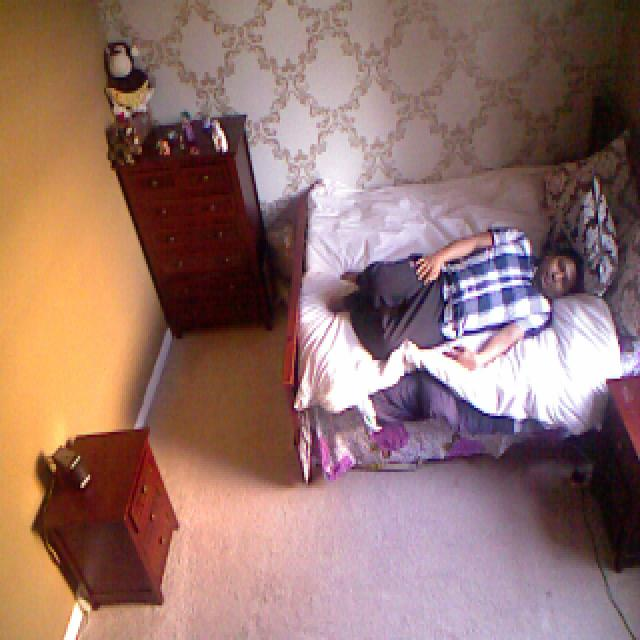lying: (324, 226, 586, 374)
